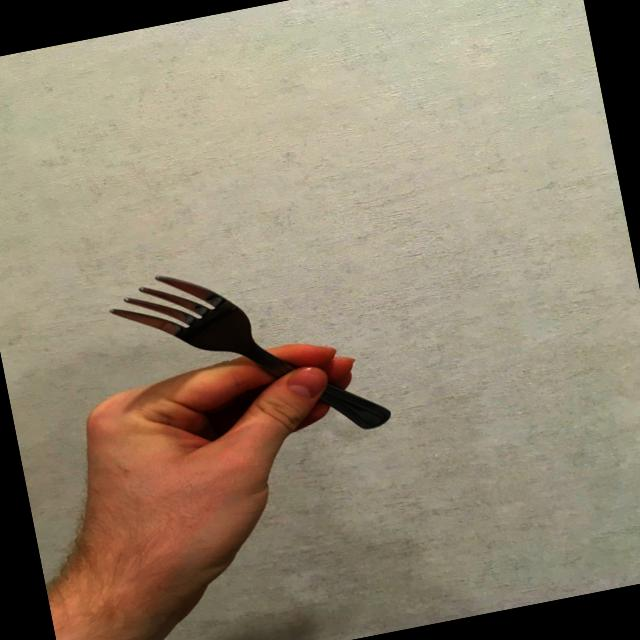fork: (101, 236, 395, 474)
